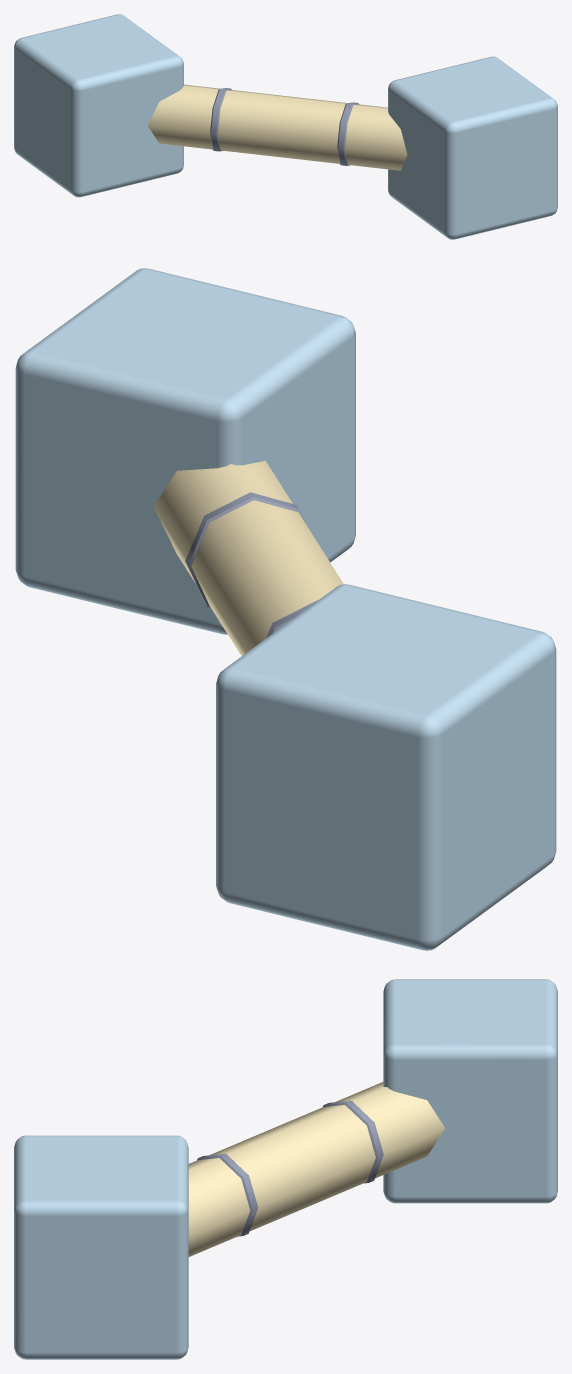
Rendered from R4C_STRUT_DIAG_2D.glb.
The picture shows the model from 3 angles, top to bottom: view 1: azimuth 30°, elevation 25°; view 2: azimuth 150°, elevation 25°; view 3: azimuth 270°, elevation 25°; orthographic projection. The views are drawn at different scales.
Visible parts, largest first — view 1: R4C_STRUT_DIAG_2D; view 2: R4C_STRUT_DIAG_2D; view 3: R4C_STRUT_DIAG_2D.
Boxes of the visible parts, x1,y1,x2,y2 form: R4C_STRUT_DIAG_2D: [14, 14, 557, 239]; R4C_STRUT_DIAG_2D: [15, 268, 556, 950]; R4C_STRUT_DIAG_2D: [14, 979, 557, 1359].
Size of the model in its own units: 1.62 by 0.52 by 1.62.
